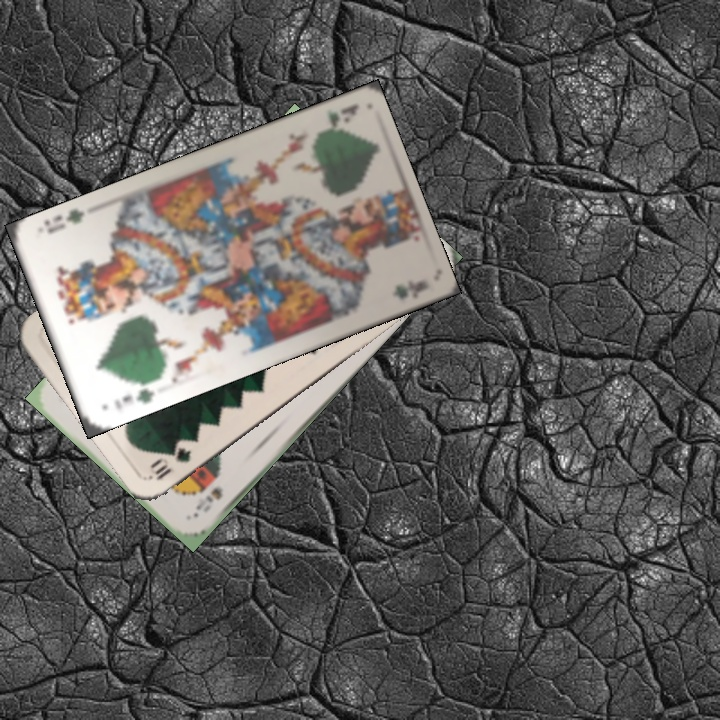G10: (147, 442, 195, 484)
GK: (309, 100, 361, 141), (110, 376, 157, 413)
SO: (191, 482, 226, 513)
